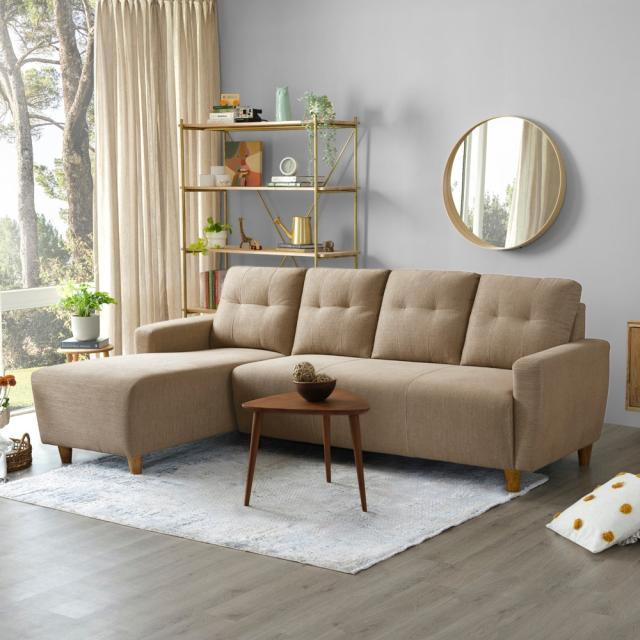sofa: (30, 264, 611, 492)
